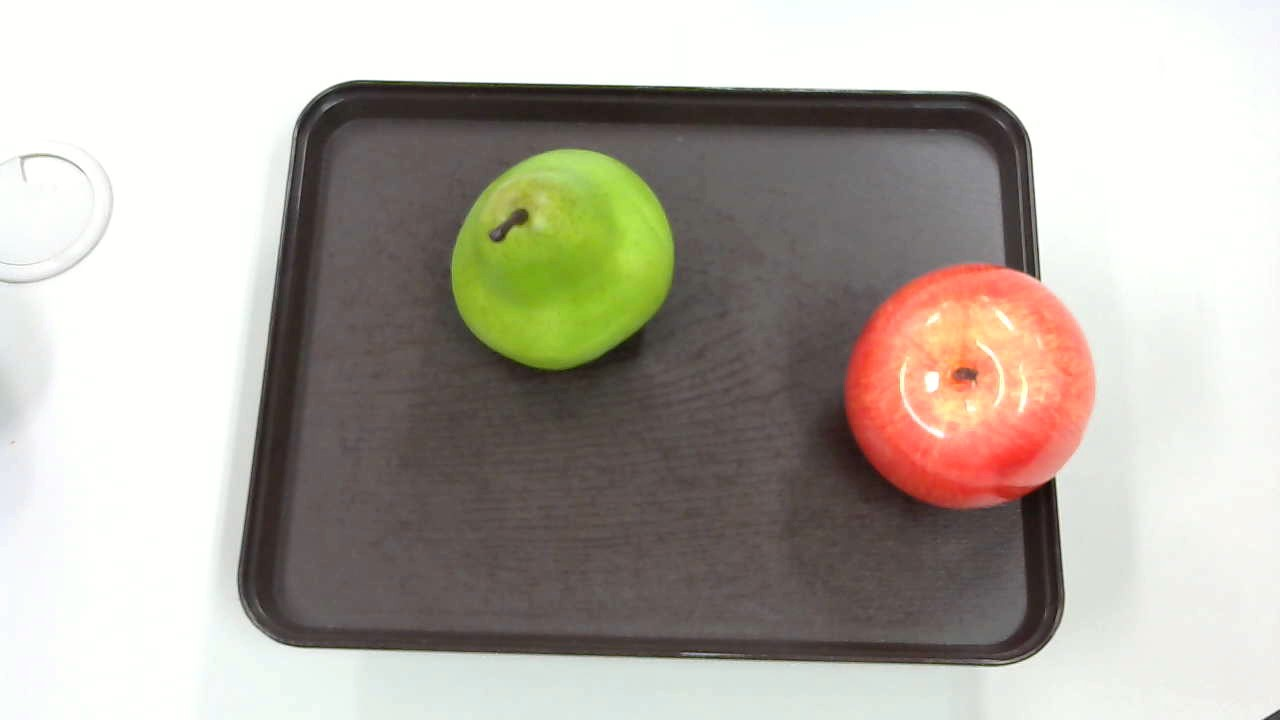green pear: (443, 144, 680, 381)
red apple: (836, 258, 1097, 507)
